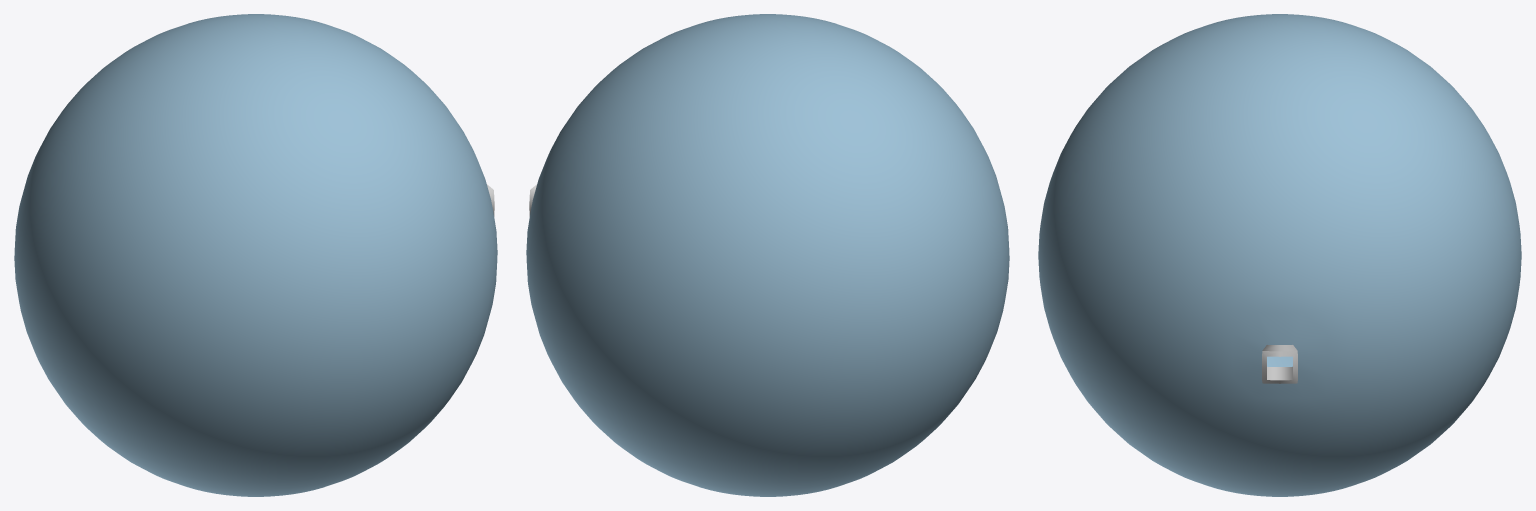
File: Gravity Sphere.fbx
The picture shows the model from 3 angles, left to right: view 1: azimuth 30°, elevation 25°; view 2: azimuth 150°, elevation 25°; view 3: azimuth 270°, elevation 25°; orthographic projection.
Visible parts, largest first — view 1: Sphere; view 2: Sphere; view 3: Sphere.
Boxes of the visible parts, bbox=[...] form: Sphere: bbox=[14, 14, 497, 496]; Sphere: bbox=[526, 14, 1009, 496]; Sphere: bbox=[1038, 14, 1521, 496].
Size of the model in its own units: 622 by 590 by 590.
